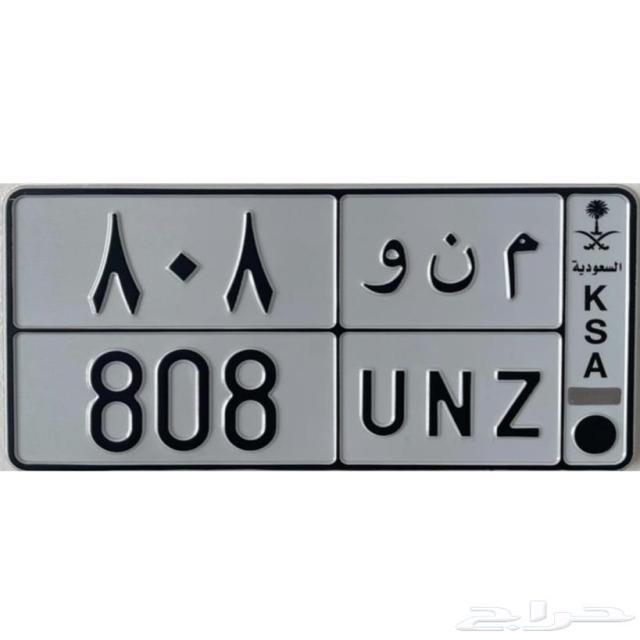license_plate: (5, 186, 640, 471), (8, 328, 566, 470)
